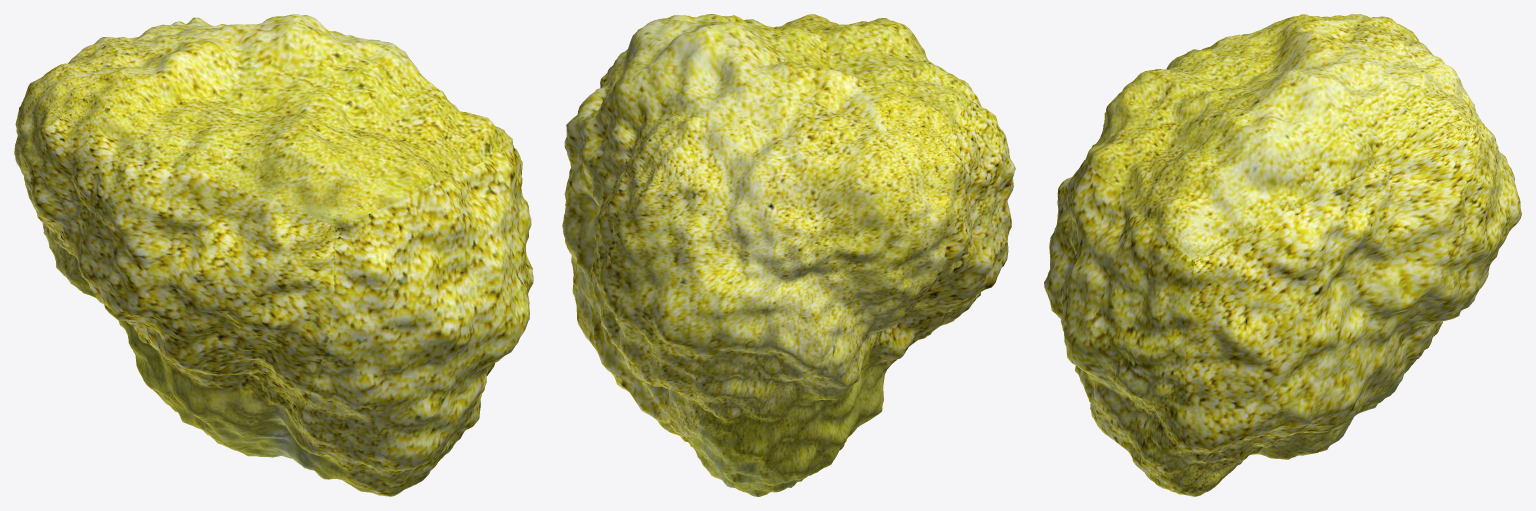
Rendered from CompAzu.glb.
The picture shows the model from 3 angles, left to right: view 1: azimuth 30°, elevation 25°; view 2: azimuth 150°, elevation 25°; view 3: azimuth 270°, elevation 25°; orthographic projection. The views are drawn at different scales.
Parts seen in each view (by area): view 1: Cube; view 2: Cube; view 3: Cube.
Part boxes in pixels (<box>): Cube: <box>14,14,533,496</box>; Cube: <box>562,14,1015,496</box>; Cube: <box>1044,14,1521,496</box>.
Bounding box in the file's own units: 0.6916 × 0.688 × 0.7401.
Materials: 1 (1 with a texture image).
